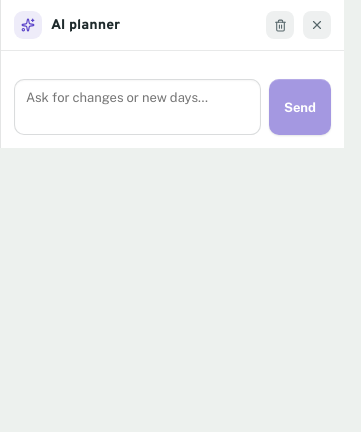
it: ChatPanel › sends a message, streams the reply, and shows quick-reply chips that send on click
Type "plan day 2" into the text box with placeholder "Ask for changes or new days…". click: {"x": 138, "y": 107}
box: x1=14 y1=79 x2=261 y2=135
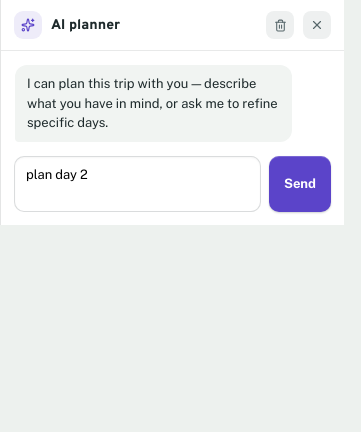
Click the button "Send". click: {"x": 300, "y": 184}
box: x1=269 y1=156 x2=331 y2=212
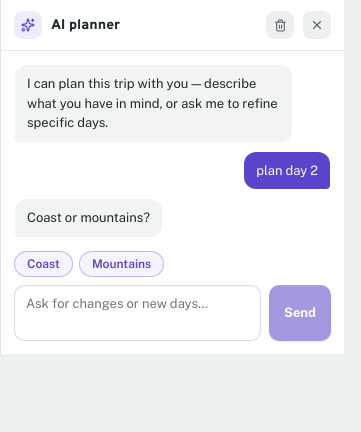
Result: the text "Coast or mountains?" is shown at x1=15 y1=199 x2=162 y2=236
Click the button "Mountains". click: {"x": 122, "y": 264}
box: x1=79 y1=250 x2=164 y2=276
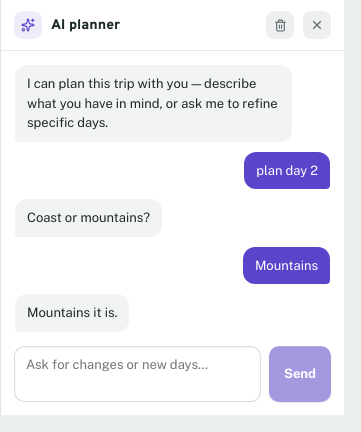
Result: the text "Mountains it is." is shown at x1=15 y1=294 x2=129 y2=332
